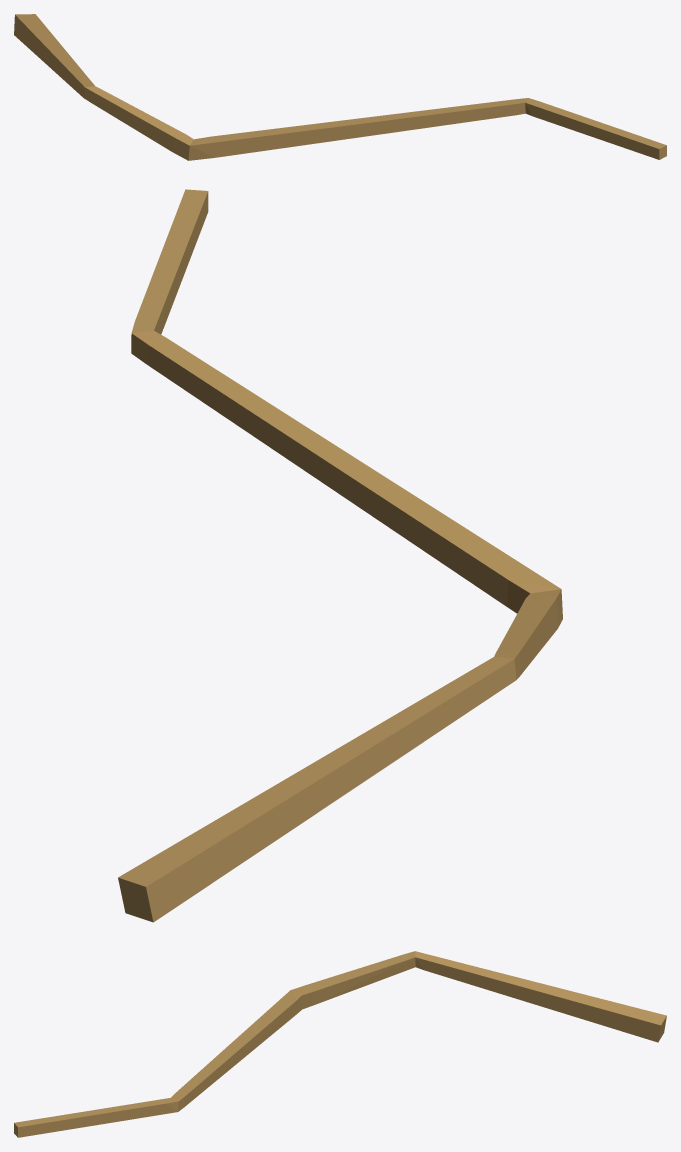
File: Detail_branch.fbx
3 views of the same model, one above another, from view 1: azimuth 30°, elevation 25°; view 2: azimuth 150°, elevation 25°; view 3: azimuth 270°, elevation 25° (orthographic). The views are drawn at different scales.
Parts seen in each view (by area): view 1: Detail_branch; view 2: Detail_branch; view 3: Detail_branch.
Boxes of the visible parts, left/top/right/bottom form: Detail_branch: left=14, top=14, right=666, bottom=160; Detail_branch: left=118, top=189, right=562, bottom=922; Detail_branch: left=14, top=951, right=666, bottom=1137.
Bounding box in the file's own units: 2.35 × 0.351 × 3.65.
